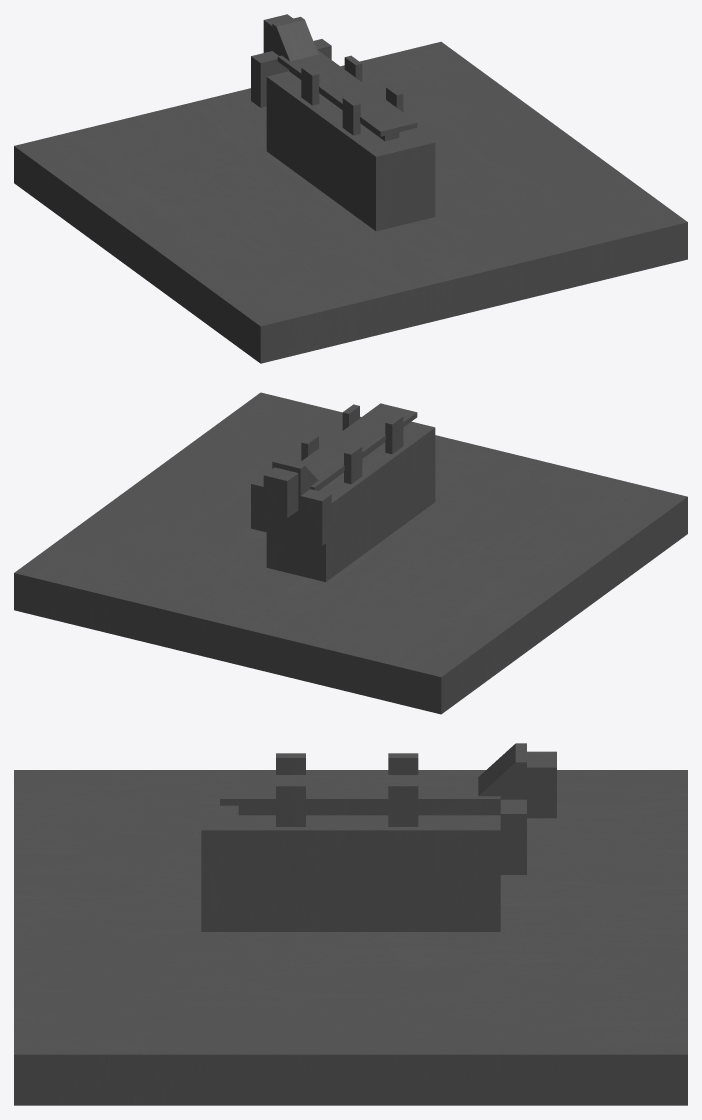
File: Pallet.glb
3 renders of one model, top to bottom at view 1: azimuth 30°, elevation 25°; view 2: azimuth 150°, elevation 25°; view 3: azimuth 270°, elevation 25°, orthographic. The views are drawn at different scales.
Parts seen in each view (by area): view 1: color.001; view 2: color.001; view 3: color.001.
Part boxes in pixels (x1,y1,x2,y2): color.001: (14, 14, 687, 363); color.001: (14, 392, 687, 714); color.001: (14, 743, 687, 1105).
Size of the model in its own units: 0.18 by 0.062 by 0.18.
Materials: 1 (1 with a texture image).
